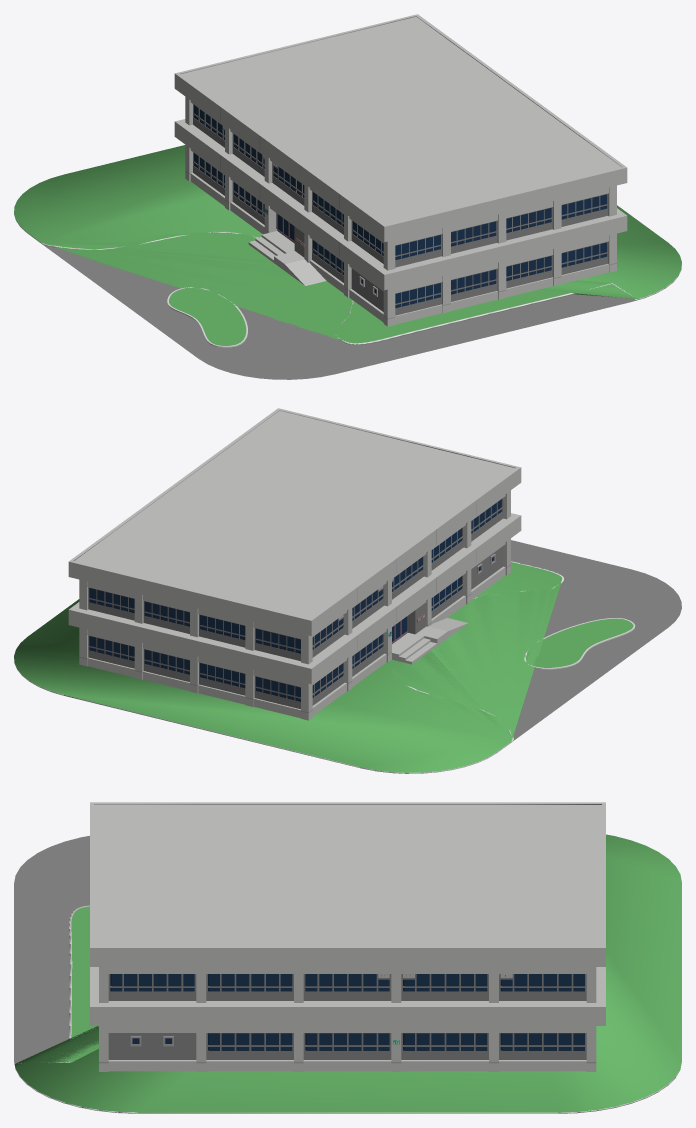
File: EnvLibrary.fbx
The picture shows the model from 3 angles, top to bottom: view 1: azimuth 30°, elevation 25°; view 2: azimuth 150°, elevation 25°; view 3: azimuth 270°, elevation 25°; orthographic projection. The views are drawn at different scales.
Visible parts, largest first — view 1: Building_B, GroundGrass, GroundRoad; view 2: Building_B, GroundGrass, GroundRoad; view 3: Building_B, GroundGrass, GroundRoad.
Part boxes in pixels (x1,y1,x2,y2): Building_B: [174, 14, 627, 326]; GroundGrass: [14, 145, 681, 347]; GroundRoad: [44, 245, 635, 379]; Building_B: [68, 408, 521, 720]; GroundGrass: [14, 561, 635, 773]; GroundRoad: [511, 540, 681, 740]; Building_B: [90, 802, 605, 1071]; GroundGrass: [14, 834, 681, 1113]; GroundRoad: [14, 835, 89, 1063].
Size of the model in its own units: 78.27 by 16.83 by 78.27.
